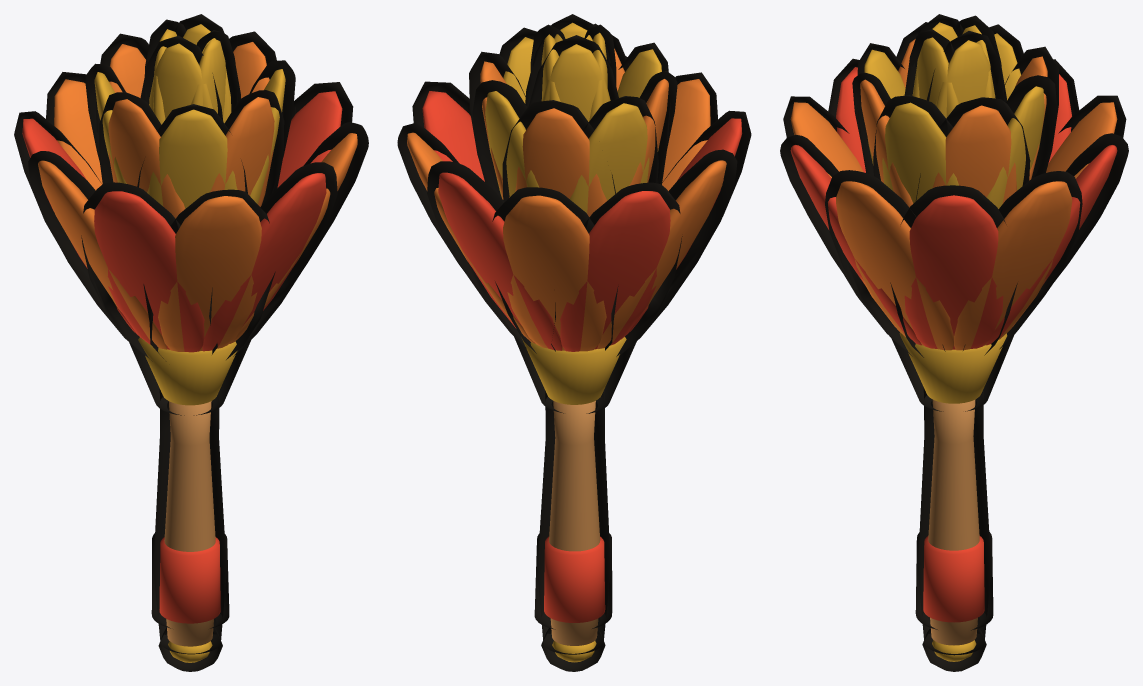
Rendered from featherduster.glb.
3 renders of one model, left to right at view 1: azimuth 30°, elevation 25°; view 2: azimuth 150°, elevation 25°; view 3: azimuth 270°, elevation 25°, orthographic.
Visible parts, largest first — view 1: FeatherDuster, FeatherDuster_outline; view 2: FeatherDuster, FeatherDuster_outline; view 3: FeatherDuster, FeatherDuster_outline.
Part boxes in pixels (<box>): FeatherDuster: <box>22,24,357,662</box>; FeatherDuster_outline: <box>14,14,368,671</box>; FeatherDuster: <box>407,22,742,662</box>; FeatherDuster_outline: <box>397,14,751,671</box>; FeatherDuster: <box>790,22,1117,661</box>; FeatherDuster_outline: <box>780,14,1128,671</box>.
Size of the model in its own units: 1.11 by 2.2 by 1.08.
